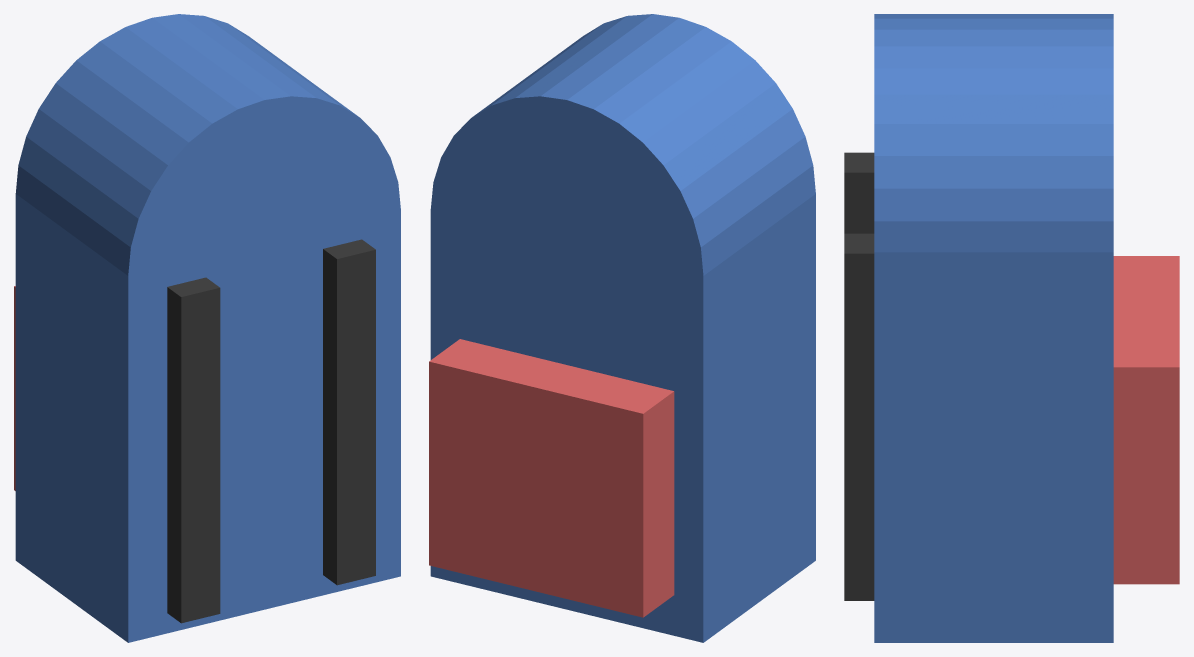
File: szkolny_plecak.fbx
3 renders of one model, left to right at view 1: azimuth 30°, elevation 25°; view 2: azimuth 150°, elevation 25°; view 3: azimuth 270°, elevation 25°, orthographic. The views are drawn at different scales.
Visible parts, largest first — view 1: SzkolnyPlecak; view 2: SzkolnyPlecak; view 3: SzkolnyPlecak.
Boxes of the visible parts, left/top/right/bottom form: SzkolnyPlecak: left=14, top=14, right=400, bottom=642; SzkolnyPlecak: left=429, top=14, right=815, bottom=642; SzkolnyPlecak: left=844, top=14, right=1179, bottom=642.
Bounding box in the file's own units: 1.4 × 2.5 × 1.4.
